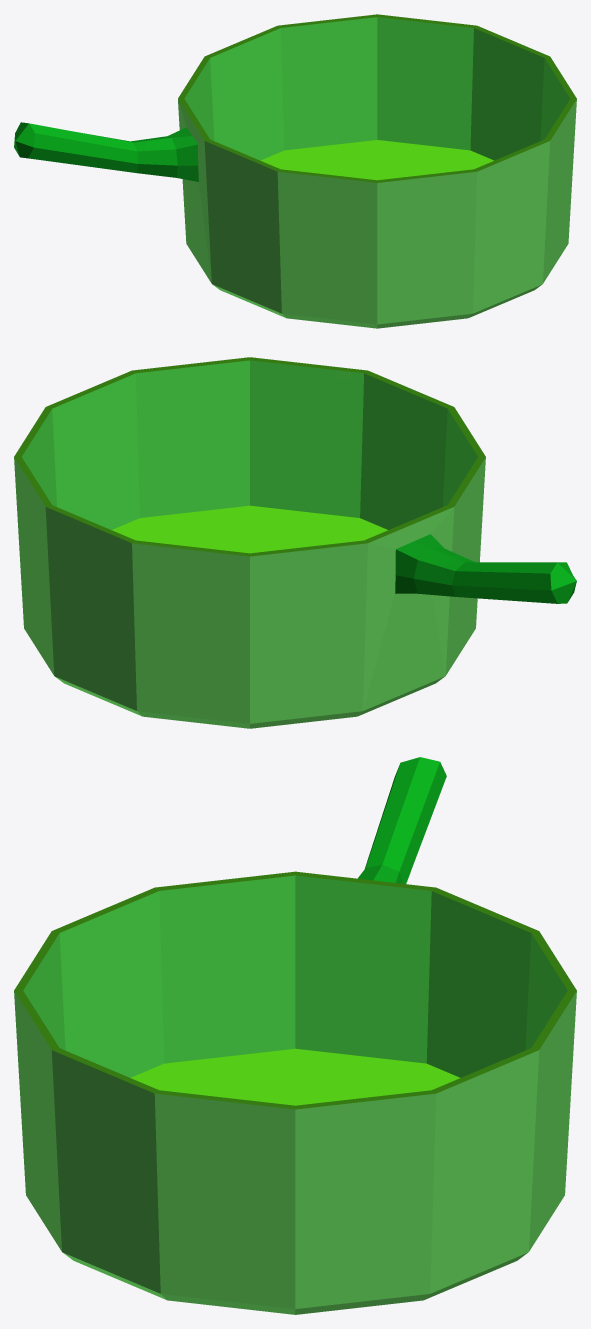
Rendered from olla.fbx.
The picture shows the model from 3 angles, top to bottom: view 1: azimuth 30°, elevation 25°; view 2: azimuth 150°, elevation 25°; view 3: azimuth 270°, elevation 25°; orthographic projection. The views are drawn at different scales.
Parts seen in each view (by area): view 1: OLLA; view 2: OLLA; view 3: OLLA.
Boxes of the visible parts, bbox=[...] form: OLLA: bbox=[14, 14, 576, 328]; OLLA: bbox=[14, 357, 576, 728]; OLLA: bbox=[14, 757, 576, 1314].
Size of the model in its own units: 242 by 80.08 by 170.
1 material, 1 textured.
